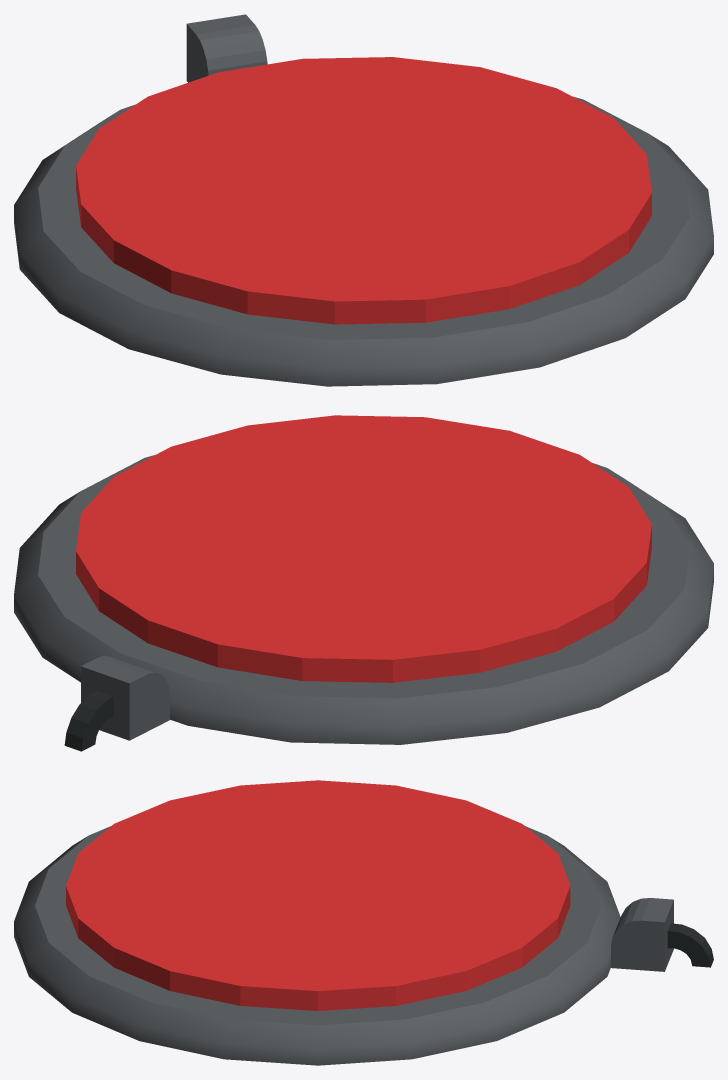
The model's file is Button.fbx.
3 views of the same model, one above another, from view 1: azimuth 30°, elevation 25°; view 2: azimuth 150°, elevation 25°; view 3: azimuth 270°, elevation 25° (orthographic). The views are drawn at different scales.
Parts seen in each view (by area): view 1: pCylinder2, pCylinder1, pCube14; view 2: pCylinder2, pCylinder1, pCube14; view 3: pCylinder2, pCylinder1, pCube14.
Boxes of the visible parts, bbox=[...] form: pCylinder2: bbox=[76, 57, 651, 324]; pCylinder1: bbox=[14, 96, 713, 386]; pCube14: bbox=[186, 14, 267, 82]; pCylinder2: bbox=[76, 415, 651, 682]; pCylinder1: bbox=[14, 455, 713, 744]; pCube14: bbox=[64, 655, 169, 751]; pCylinder2: bbox=[66, 780, 570, 1010]; pCylinder1: bbox=[14, 826, 620, 1065]; pCube14: bbox=[611, 898, 713, 971].
Bounding box in the file's own units: 106 × 9.92 × 123.
